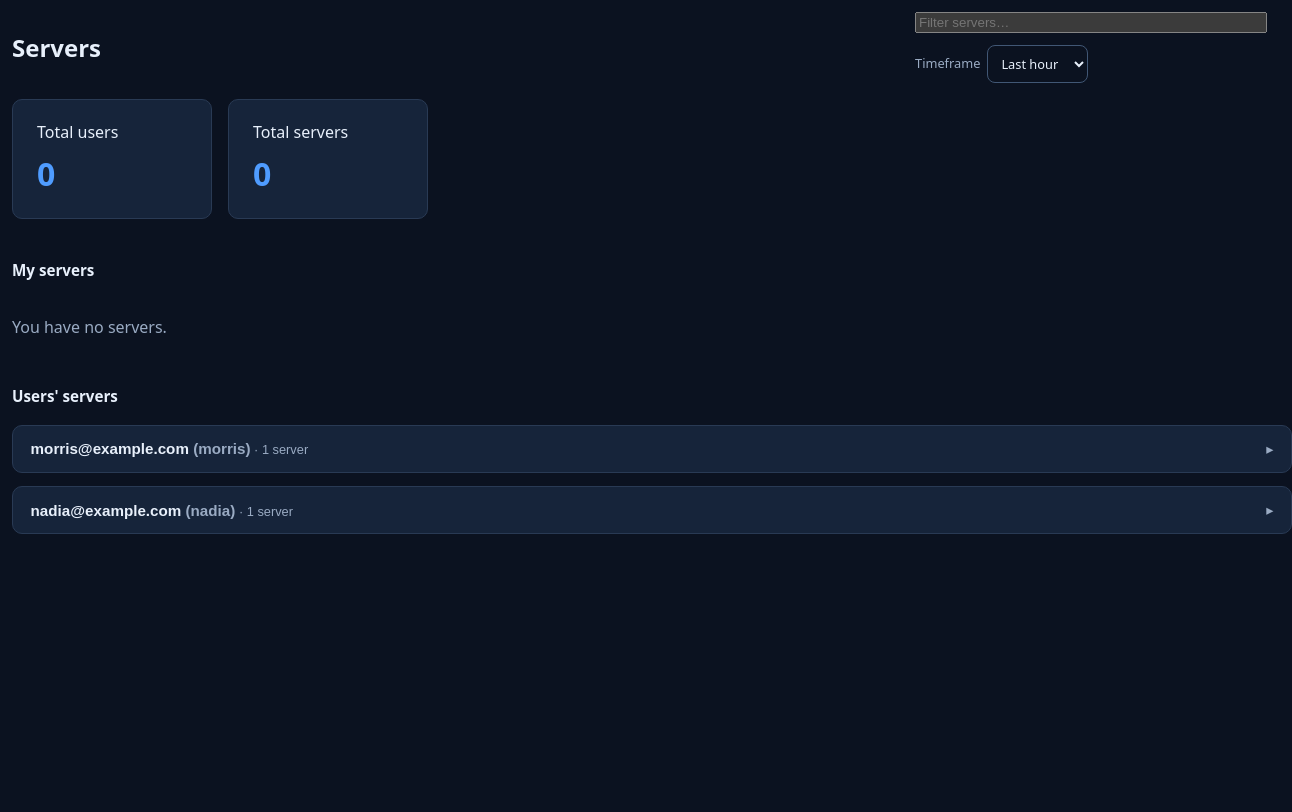
Test: ServersView › groups servers by owner and shows resources + sparklines
Expected: the heading "morris@example.com (morris) · 1 server" is shown, x1=31 y1=440 x2=308 y2=457
Expected: the heading "nadia@example.com (nadia) · 1 server" is shown, x1=31 y1=502 x2=293 y2=519
Click the button "morris@example.com (morris) · 1 server ▸": (110, 449) x1=31 y1=440 x2=1273 y2=457
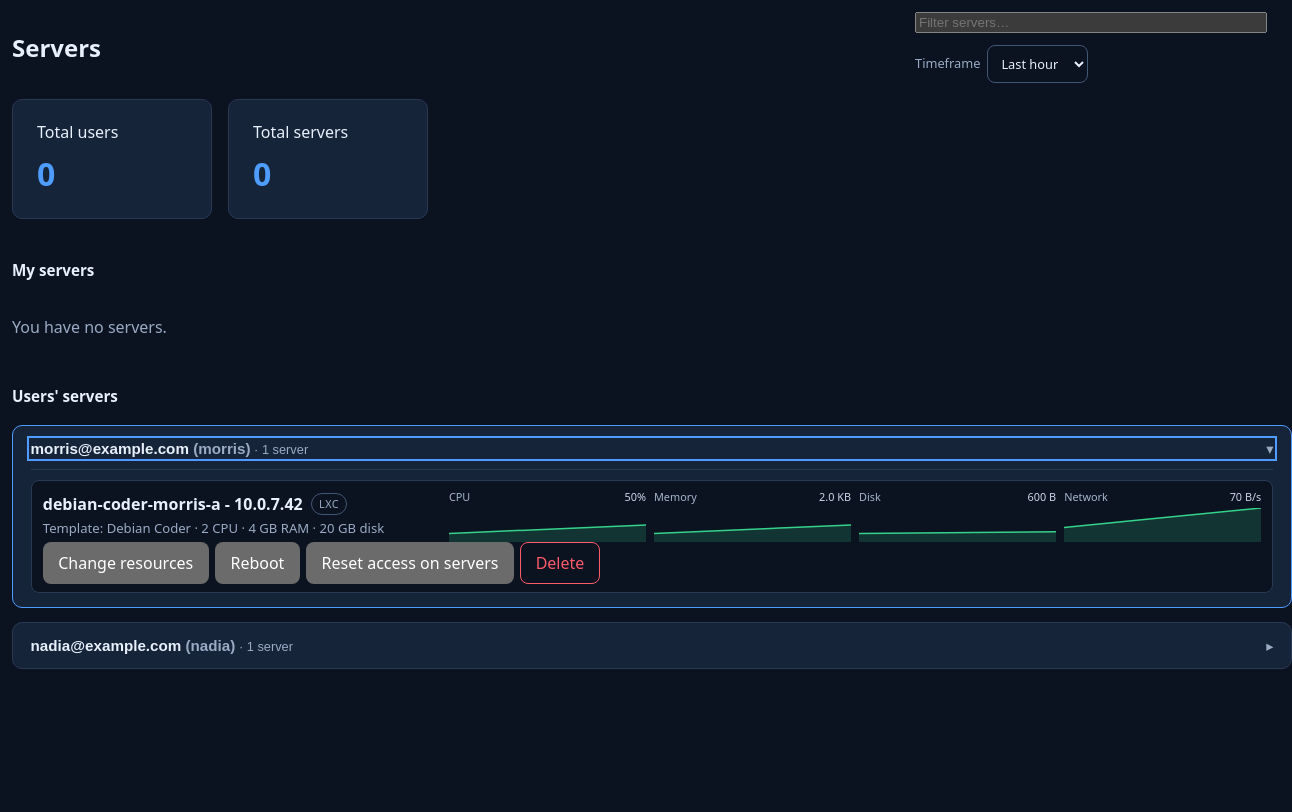
Click the button "nadia@example.com (nadia) · 1 server ▸": (106, 646) x1=31 y1=637 x2=1273 y2=654
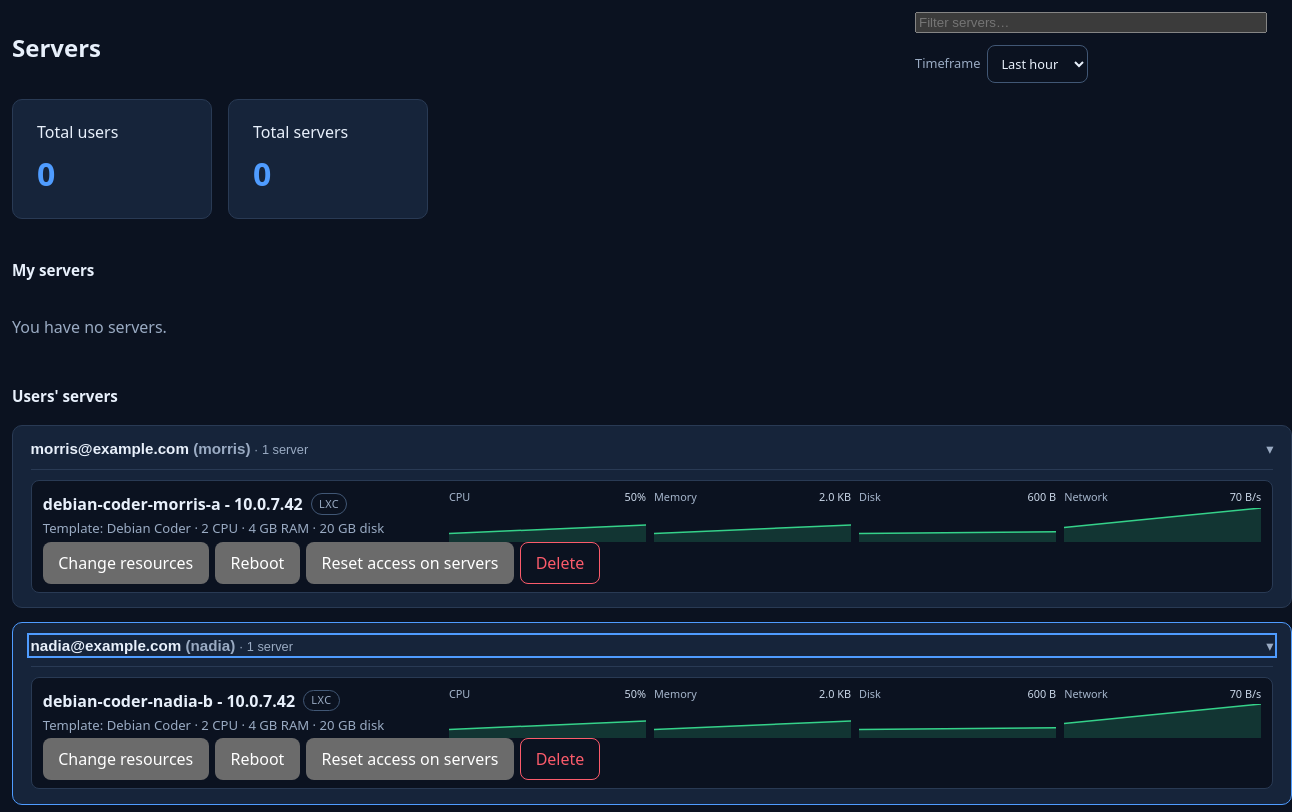
Now the text "Template: Debian Coder · 2 CPU · 4 GB RAM · 20 GB disk" is shown 2 times, box x1=43 y1=519 x2=433 y2=539; x1=43 y1=716 x2=433 y2=735
Now the number of elements "CPU" is 2, box x1=449 y1=489 x2=646 y2=542; x1=449 y1=686 x2=646 y2=738
Now the text "50%" is shown 2 times, box x1=624 y1=489 x2=646 y2=505; x1=624 y1=686 x2=646 y2=702
